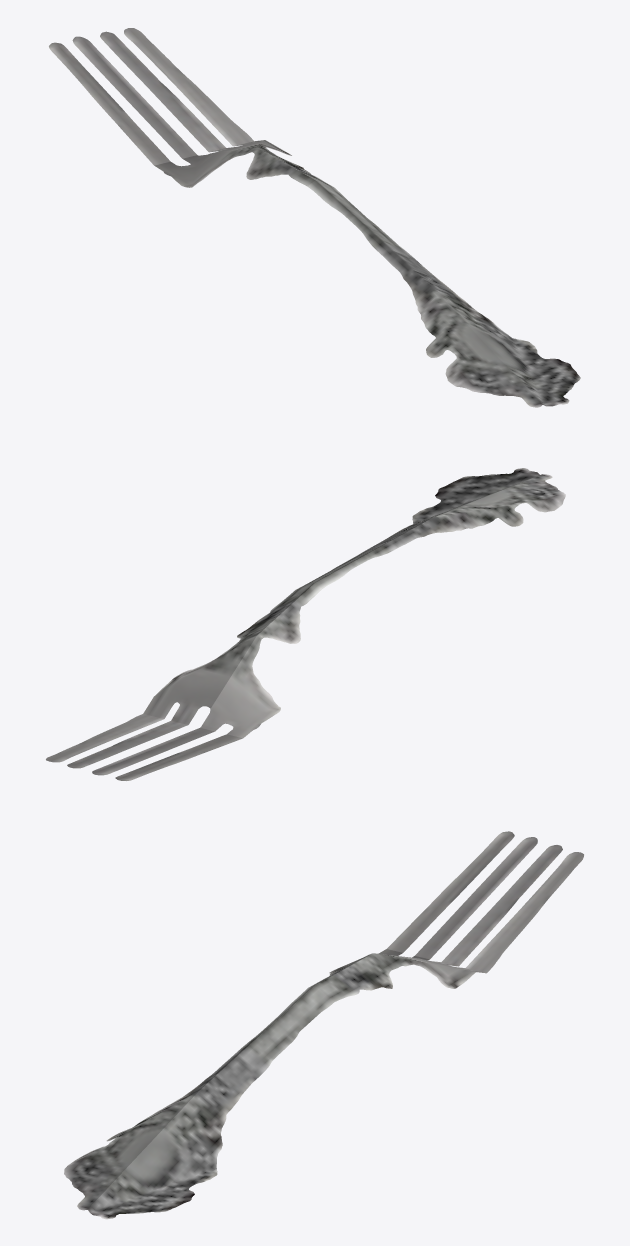
File: Fork__ornate.fbx
The picture shows the model from 3 angles, top to bottom: view 1: azimuth 30°, elevation 25°; view 2: azimuth 150°, elevation 25°; view 3: azimuth 330°, elevation 25°; orthographic projection.
Visible parts, largest first — view 1: Fork_Ornate_LOD0; view 2: Fork_Ornate_LOD0; view 3: Fork_Ornate_LOD0.
Part boxes in pixels (left/top/right/bottom): Fork_Ornate_LOD0: left=49, top=28, right=580, bottom=407; Fork_Ornate_LOD0: left=46, top=468, right=565, bottom=780; Fork_Ornate_LOD0: left=64, top=831, right=583, bottom=1219.
Size of what is drawn, in the model's own units: 8.61 by 3.75 by 50.6.
